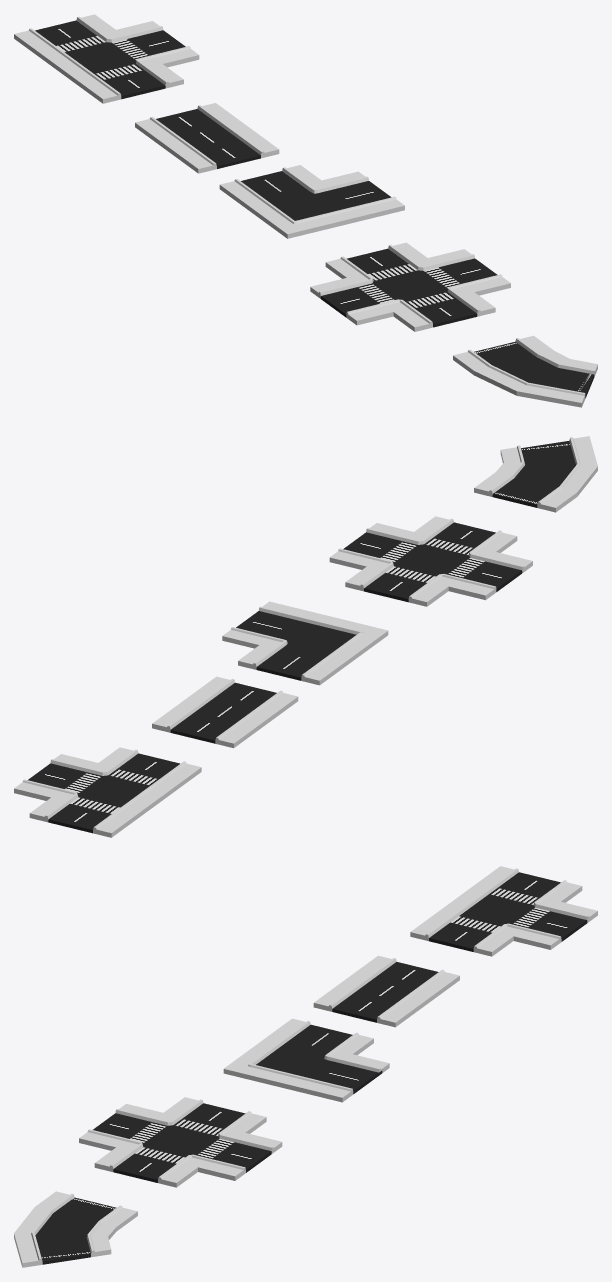
File: road 1.fbx
3 views of the same model, one above another, from view 1: azimuth 30°, elevation 25°; view 2: azimuth 150°, elevation 25°; view 3: azimuth 330°, elevation 25° (orthographic).
Parts seen in each view (by area): view 1: roadTurn90, roadForward_6, softTurn, roadForwardwalk, roadForward, roadForward_road, softTurn_selection, roadForward_road_4, roadForward_8, roadForward_7, roadForward_2, roadForward_9 (+8 smaller); view 2: roadTurn90, roadForward_6, softTurn_selection, roadForwardwalk, softTurn, roadForward_road, roadForward, roadForward_road_4, roadForward_7, roadForward_8, roadForward_2, roadForward_3 (+8 smaller); view 3: roadTurn90, roadForward_6, softTurn_selection, roadForwardwalk, softTurn, roadForward, roadForward_road, roadForward_road_4, roadForward_8, roadForward_3, roadForward_9, roadForward_7 (+8 smaller).
Part boxes in pixels (<box>): roadTurn90: <box>219,165,404,238</box>; roadForward_6: <box>241,171,391,220</box>; softTurn: <box>453,335,597,407</box>; roadForwardwalk: <box>135,103,279,173</box>; roadForward: <box>156,109,260,168</box>; roadForward_road: <box>347,248,447,301</box>; softTurn_selection: <box>474,341,594,398</box>; roadForward_road_4: <box>35,20,136,73</box>; roadForward_8: <box>58,59,183,103</box>; roadForward_7: <box>14,14,115,70</box>; roadForward_2: <box>310,274,407,325</box>; roadForward_9: <box>102,21,199,67</box>; roadTurn90: <box>222,601,388,685</box>; roadForward_6: <box>236,611,356,680</box>; softTurn_selection: <box>492,441,575,507</box>; roadForwardwalk: <box>152,676,298,748</box>; softTurn: <box>474,436,597,512</box>; roadForward_road: <box>364,544,469,602</box>; roadForward: <box>170,682,276,743</box>; roadForward_road_4: <box>48,775,149,833</box>; roadForward_7: <box>29,792,156,837</box>; roadForward_8: <box>99,747,201,804</box>; roadForward_2: <box>434,548,532,600</box>; roadForward_3: <box>329,523,427,569</box>; roadTurn90: <box>223,1018,389,1102</box>; roadForward_6: <box>256,1024,382,1094</box>; softTurn_selection: <box>35,1197,116,1264</box>; roadForwardwalk: <box>313,955,459,1027</box>; softTurn: <box>14,1191,137,1267</box>; roadForward: <box>332,962,438,1022</box>; roadForward_road: <box>142,1103,245,1157</box>; roadForward_road_4: <box>459,872,560,926</box>; roadForward_8: <box>410,899,513,956</box>; roadForward_3: <box>183,1129,282,1180</box>; roadForward_9: <box>499,898,597,949</box>; roadForward_7: <box>456,866,582,906</box>.
Bounding box in the file's own units: 1312 × 50 × 7663.
Materials: 4 (4 with a texture image).
